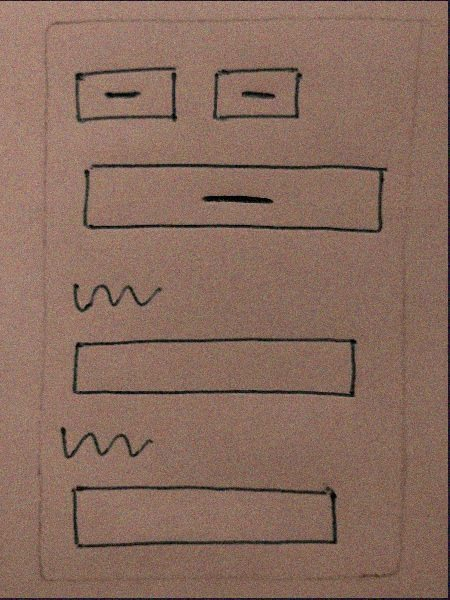button: (76, 154, 392, 251), (70, 60, 190, 137), (204, 62, 309, 135)
text: (58, 421, 158, 474), (67, 272, 169, 321)
text_input: (70, 332, 364, 406), (67, 482, 339, 558)
